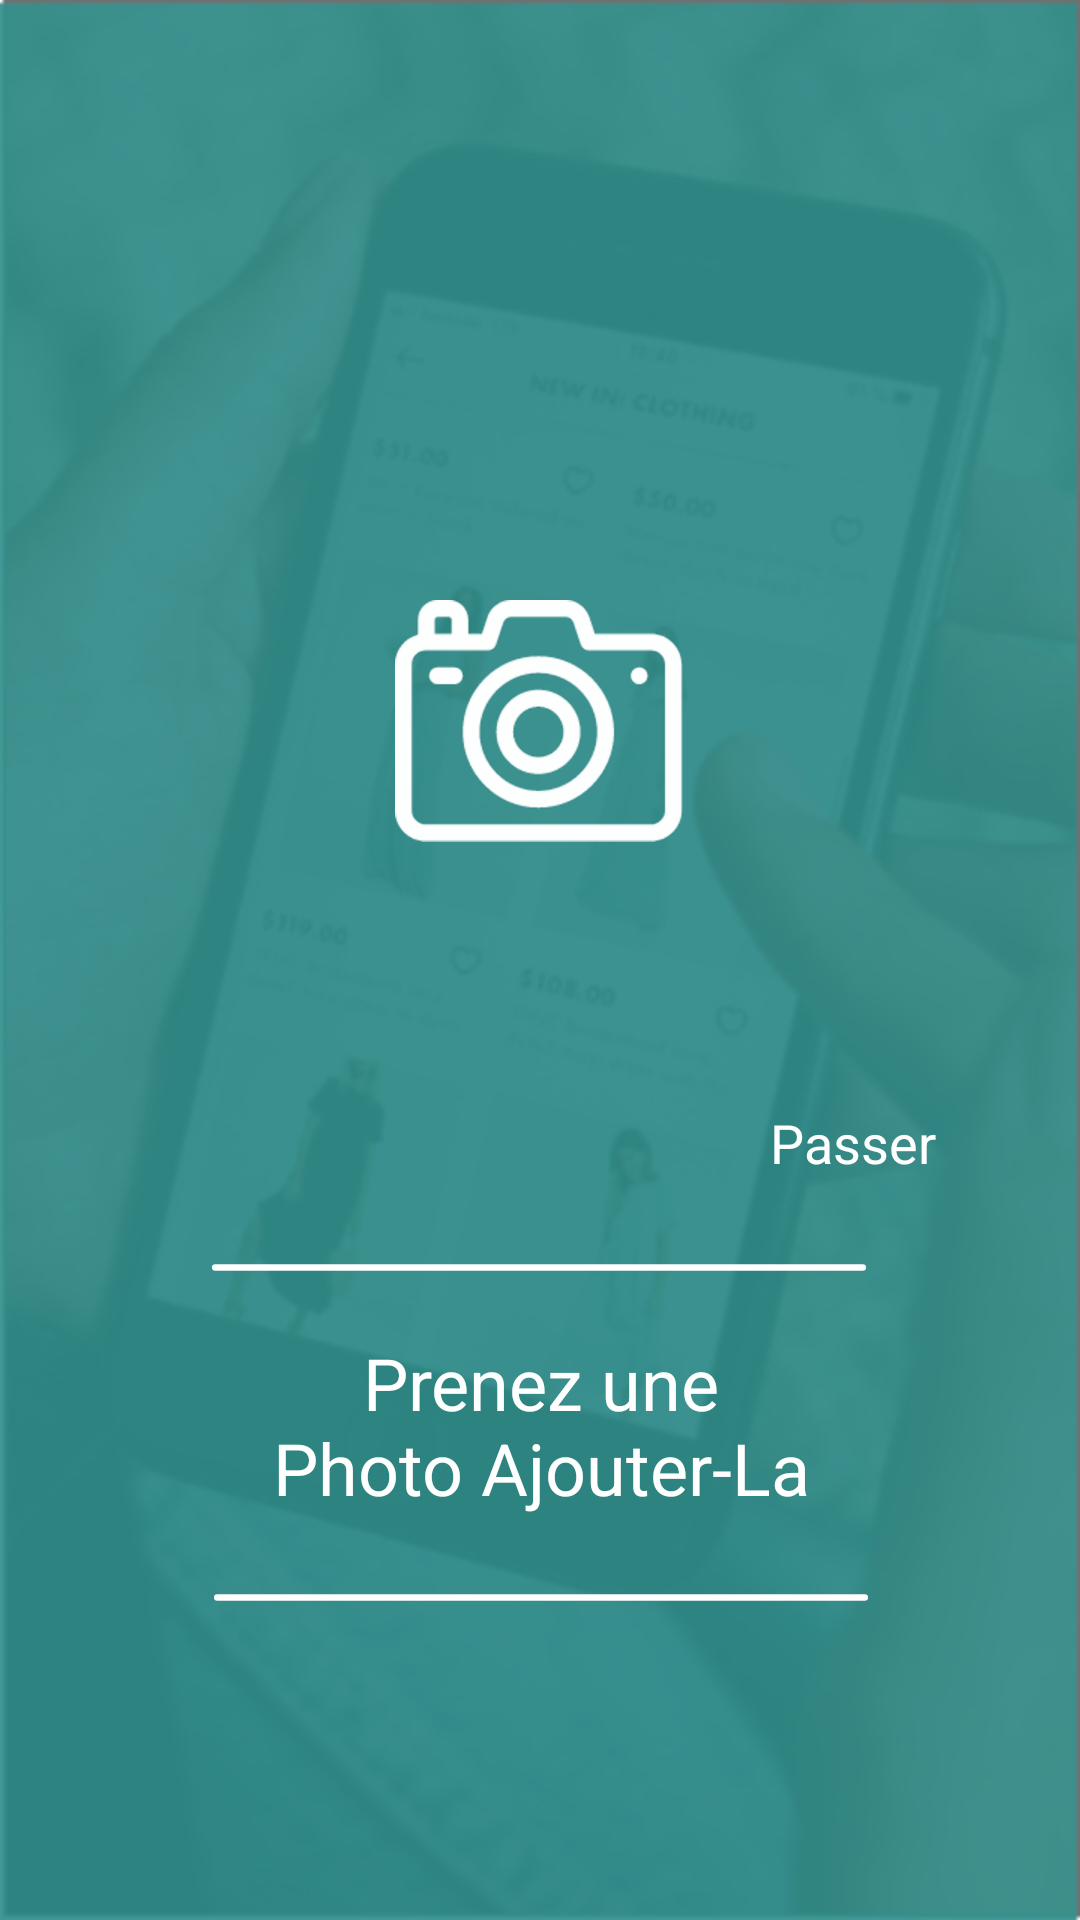

Icon click points for this 1080px x 1920px phone screenshot, format point (x, y):
cameraicon: point (539, 721)
